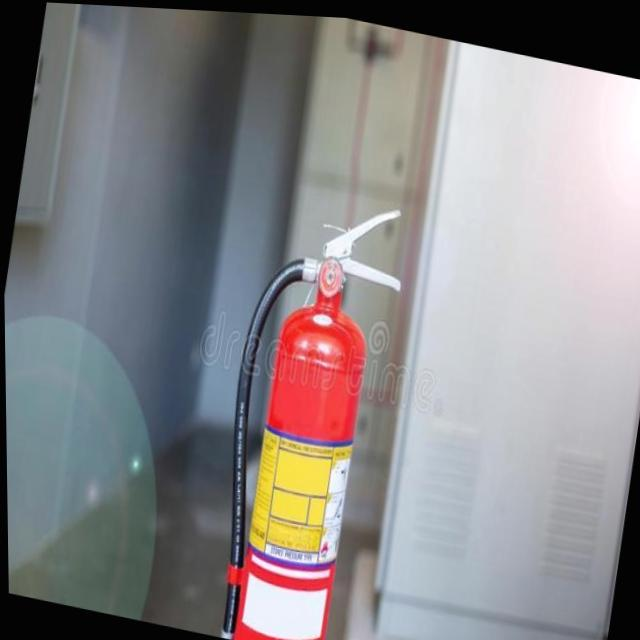FireExtinguisher: (189, 172, 419, 640)
